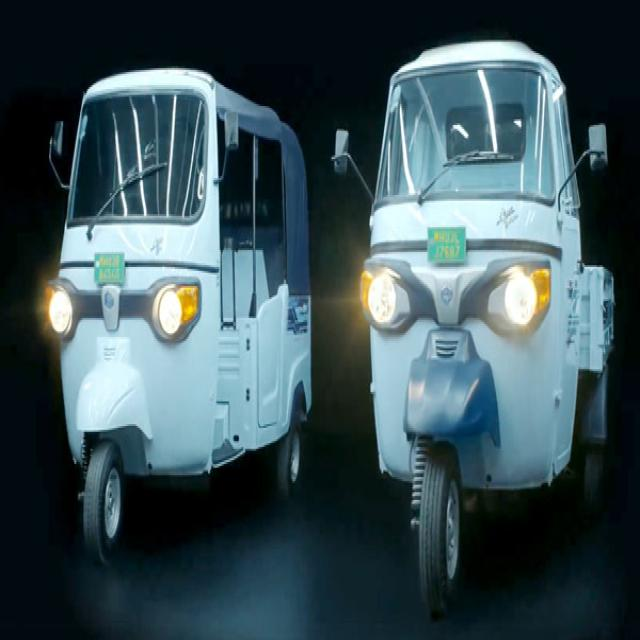autorickshaw: (361, 44, 614, 614), (49, 69, 311, 557)
